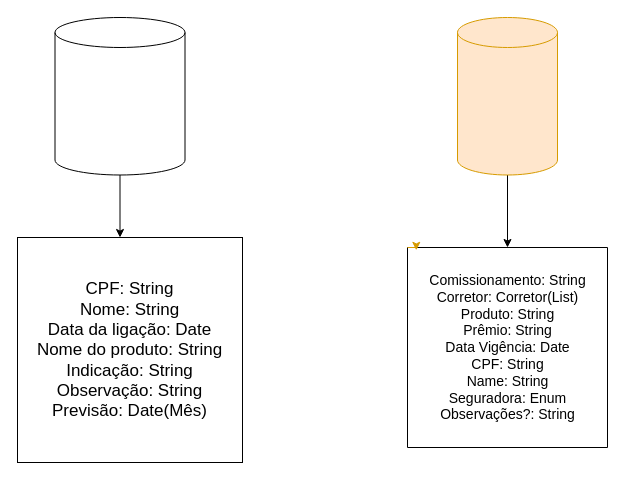
The diagram is 625 pixels wide and 480 high, and some of its shapes have lost their labels. The shapes that lost their labels are listed below. From the top down, each one's centre as x and y in pixels, then its label:
At (119,95): "Prospecções".
At (507,95): "Produção".
